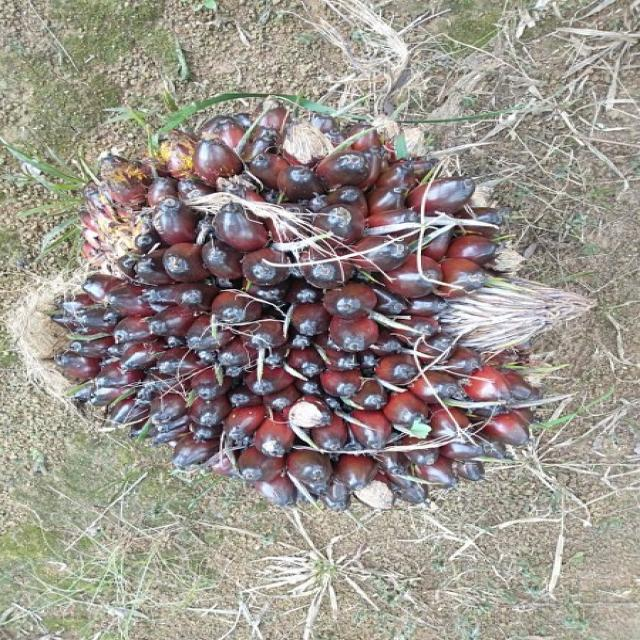fraksi 00: (34, 128, 536, 503)
